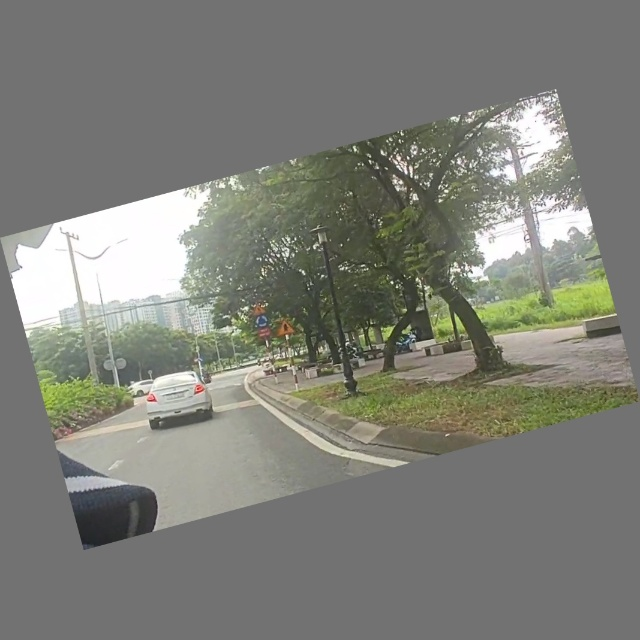R.302a: (198, 356, 206, 364)
R.303: (253, 313, 272, 330)
W.207: (273, 317, 296, 339)
W.224: (250, 302, 268, 317)
